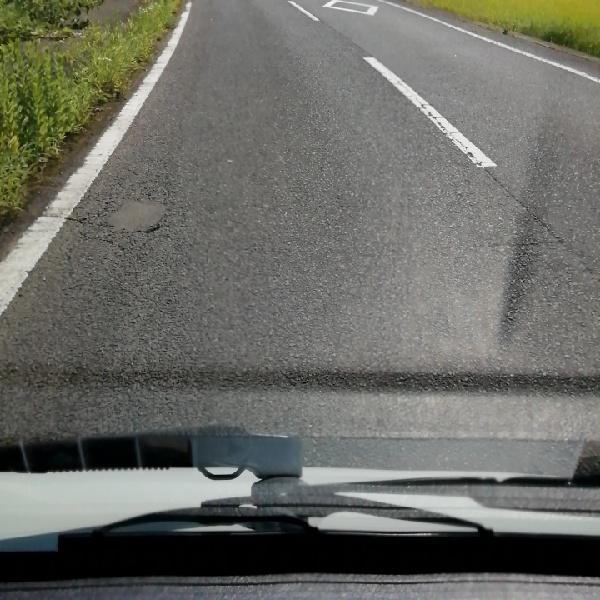D10: (448, 236, 582, 252)
D40: (84, 184, 175, 236)
